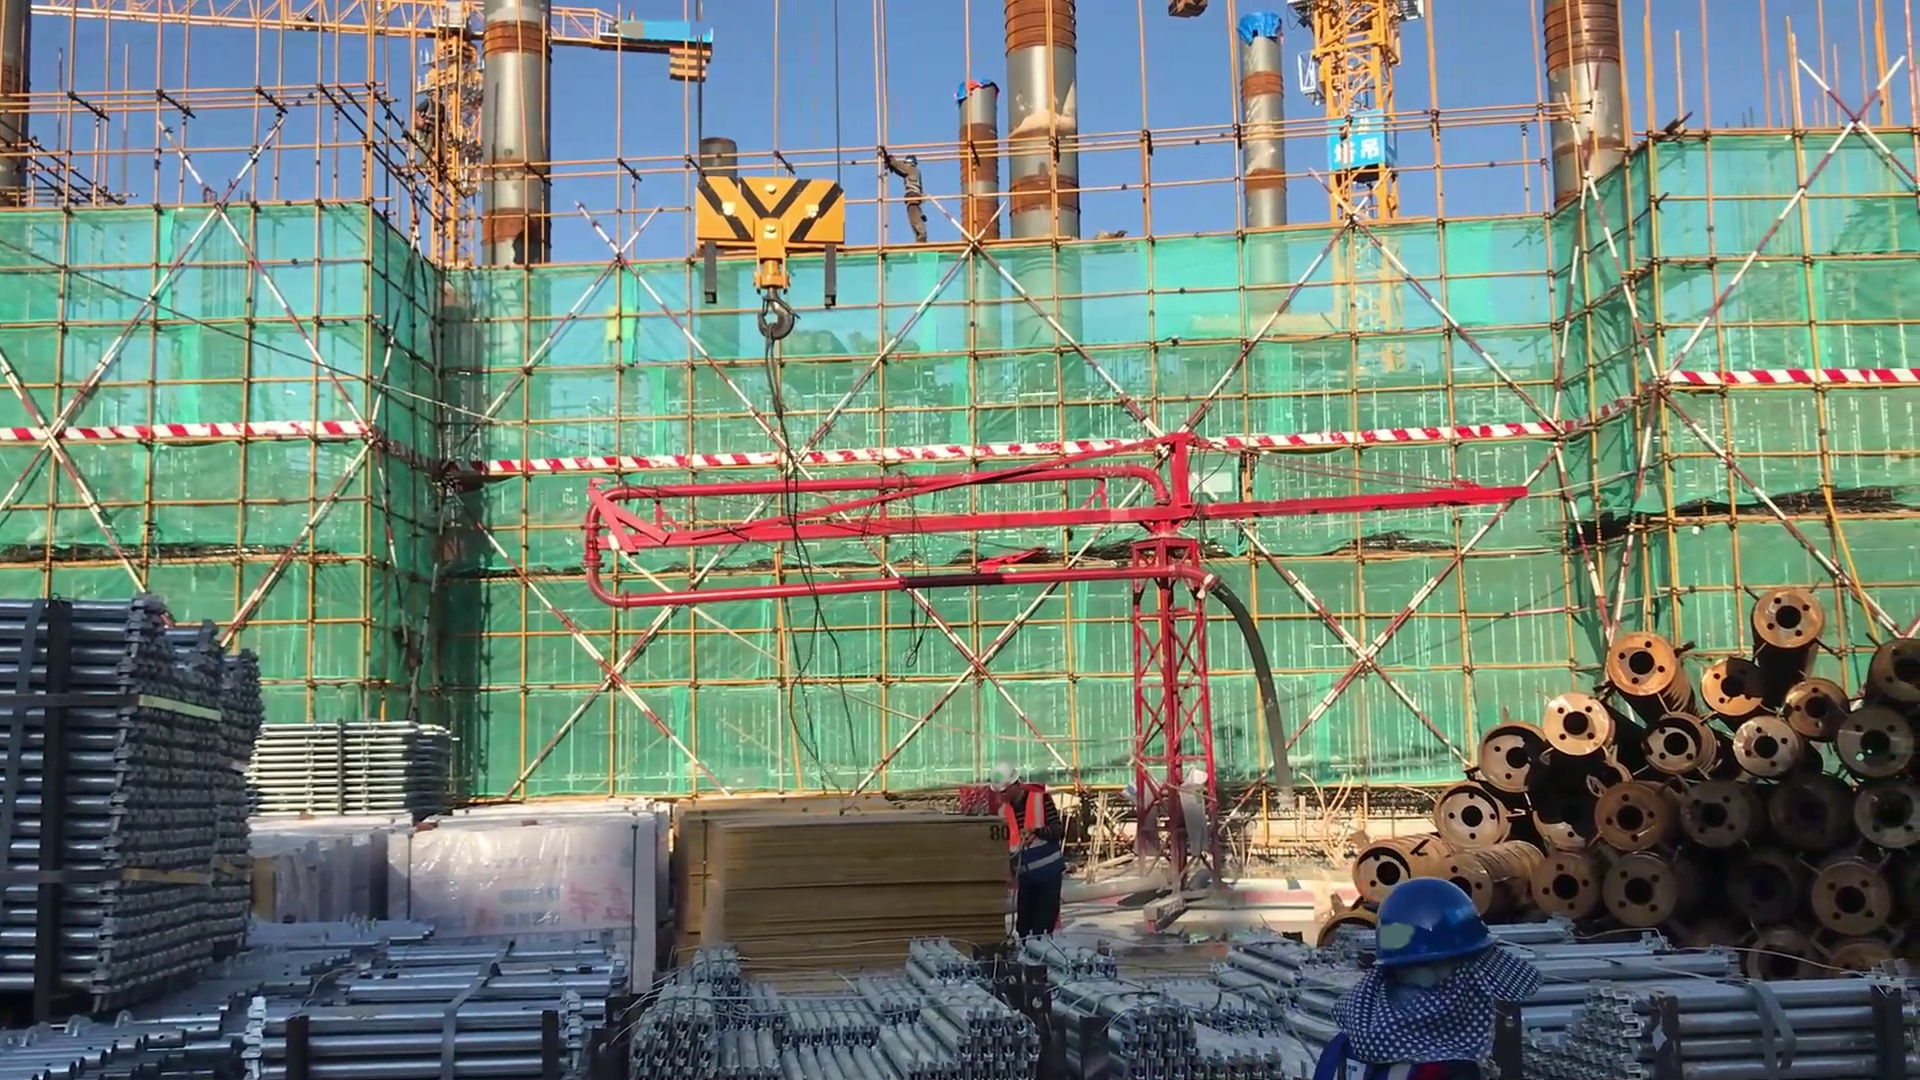board: (677, 798, 1012, 952)
helmet: (1366, 881, 1491, 963), (984, 762, 1024, 791), (900, 153, 922, 169)
hook: (681, 159, 862, 381)
person: (1315, 872, 1540, 1080), (980, 764, 1070, 946), (875, 141, 933, 253)
scaffold: (2, 585, 259, 1080), (1487, 916, 1918, 1080), (252, 910, 634, 1080), (637, 952, 1036, 1080), (1041, 932, 1311, 1078), (256, 714, 463, 824)
slogan: (1333, 113, 1391, 178)
vest: (1314, 1024, 1500, 1080), (993, 782, 1067, 888)
